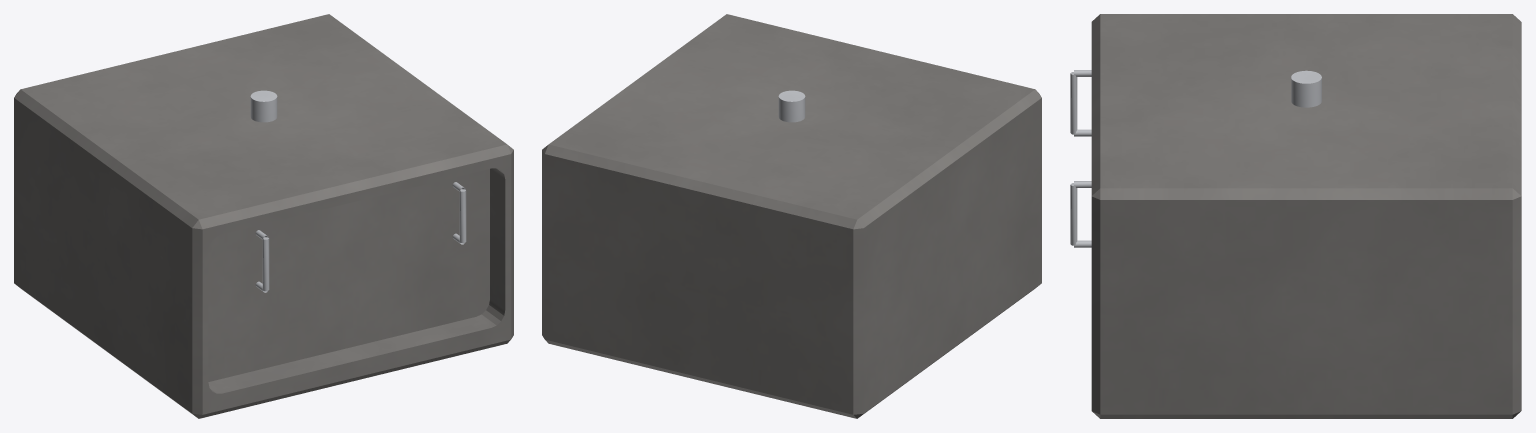
File: ax_power_11_battery_module_medium.glb
3 views of the same model, side by side, from view 1: azimuth 30°, elevation 25°; view 2: azimuth 150°, elevation 25°; view 3: azimuth 270°, elevation 25° (orthographic). The views are drawn at different scales.
Visible parts, largest first — view 1: slot_housing, handles, connectors; view 2: slot_housing, connectors; view 3: slot_housing, handles, connectors.
Boxes of the visible parts, box(x1,y1,x2,y2) form: slot_housing: box(14, 14, 513, 418); handles: box(255, 182, 466, 292); connectors: box(250, 90, 277, 122); slot_housing: box(542, 14, 1041, 418); connectors: box(778, 90, 805, 122); slot_housing: box(1091, 14, 1521, 418); handles: box(1070, 70, 1091, 247); connectors: box(1291, 70, 1321, 107).
Bounding box in the file's own units: 0.98 × 0.64 × 1.03.
Materials: 2 (2 with a texture image).
